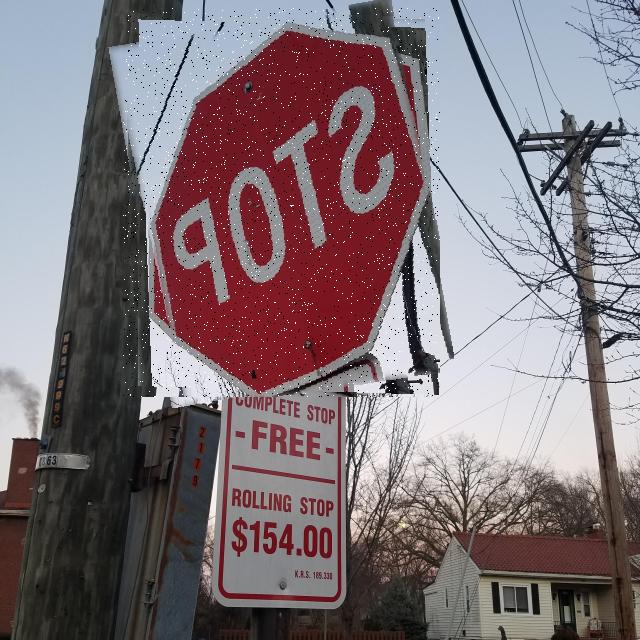stop: (123, 8, 440, 397)
